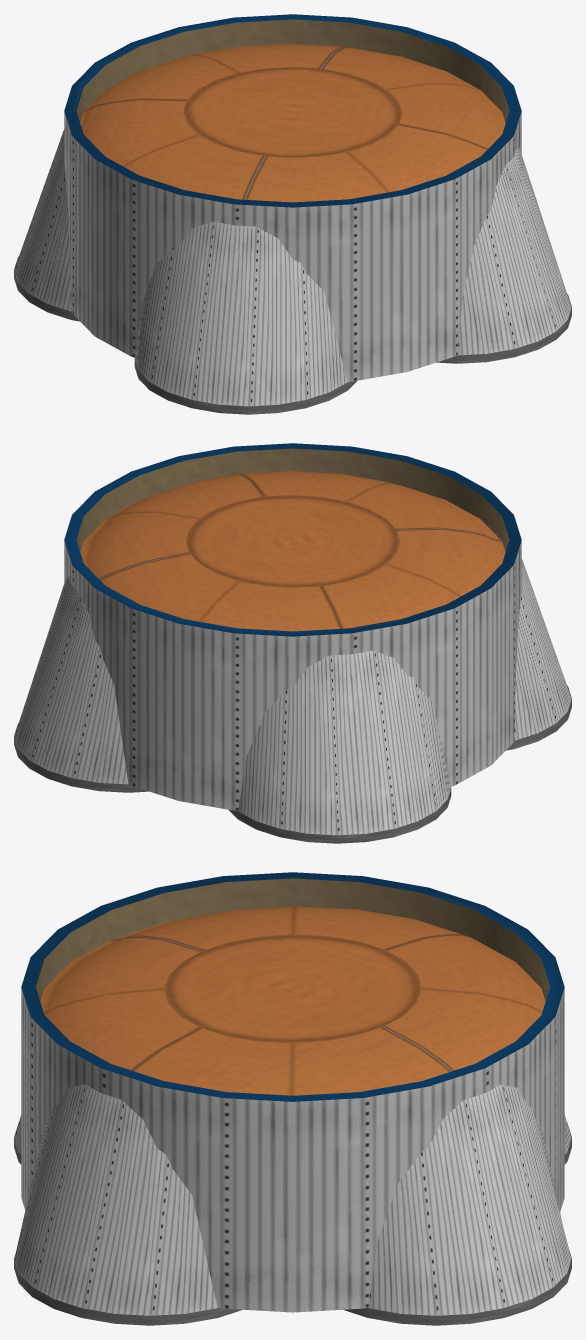
File: QuadEngineCoupler.FBX
3 views of the same model, one above another, from view 1: azimuth 30°, elevation 25°; view 2: azimuth 150°, elevation 25°; view 3: azimuth 270°, elevation 25° (orthographic). The views are drawn at different scales.
Parts seen in each view (by area): view 1: MainBody, EndCap001, EngineSkirt003, EngineSkirt004, EngineSkirt002, EngineMount003, EngineMount004, EngineMount002; view 2: MainBody, EndCap001, EngineSkirt002, EngineSkirt001, EngineSkirt003, EngineMount002, EngineMount001, EngineMount003; view 3: MainBody, EndCap001, EngineSkirt001, EngineSkirt004, EngineMount004, EngineMount001.
Boxes of the visible parts, bbox=[...] form: MainBody: bbox=[64, 14, 521, 381]; EndCap001: bbox=[80, 44, 505, 202]; EngineSkirt003: bbox=[134, 221, 347, 406]; EngineSkirt004: bbox=[457, 148, 571, 355]; EngineSkirt002: bbox=[14, 129, 71, 311]; EngineMount003: bbox=[134, 359, 356, 414]; EngineMount004: bbox=[437, 294, 571, 363]; EngineMount002: bbox=[14, 256, 79, 321]; MainBody: bbox=[64, 443, 521, 810]; EndCap001: bbox=[80, 471, 505, 631]; EngineSkirt002: bbox=[238, 650, 451, 835]; EngineSkirt001: bbox=[14, 576, 128, 784]; EngineSkirt003: bbox=[514, 558, 571, 740]; EngineMount002: bbox=[228, 788, 451, 843]; EngineMount001: bbox=[14, 723, 148, 792]; EngineMount003: bbox=[506, 685, 571, 750]; MainBody: bbox=[21, 872, 564, 1312]; EndCap001: bbox=[40, 906, 545, 1095]; EngineSkirt001: bbox=[368, 1084, 571, 1315]; EngineSkirt004: bbox=[14, 1084, 217, 1315]; EngineMount004: bbox=[14, 1254, 242, 1325]; EngineMount001: bbox=[343, 1253, 571, 1325].
Size of what is drawn, in the model's own units: 2.57 by 1.12 by 2.57.
1 material, 1 textured.
